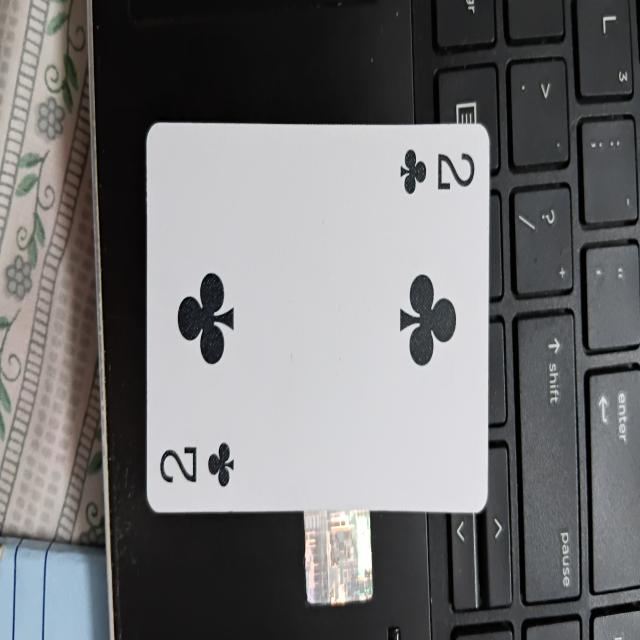2C: (143, 126, 491, 522)
